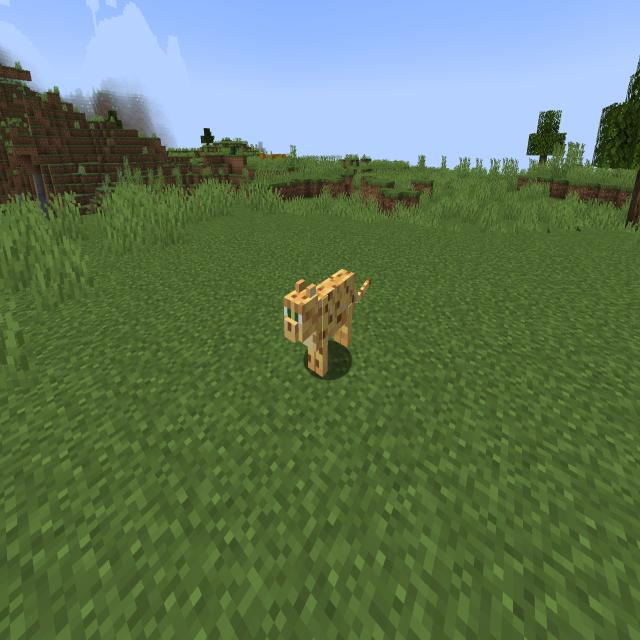Ocelot: (280, 257, 376, 385)
